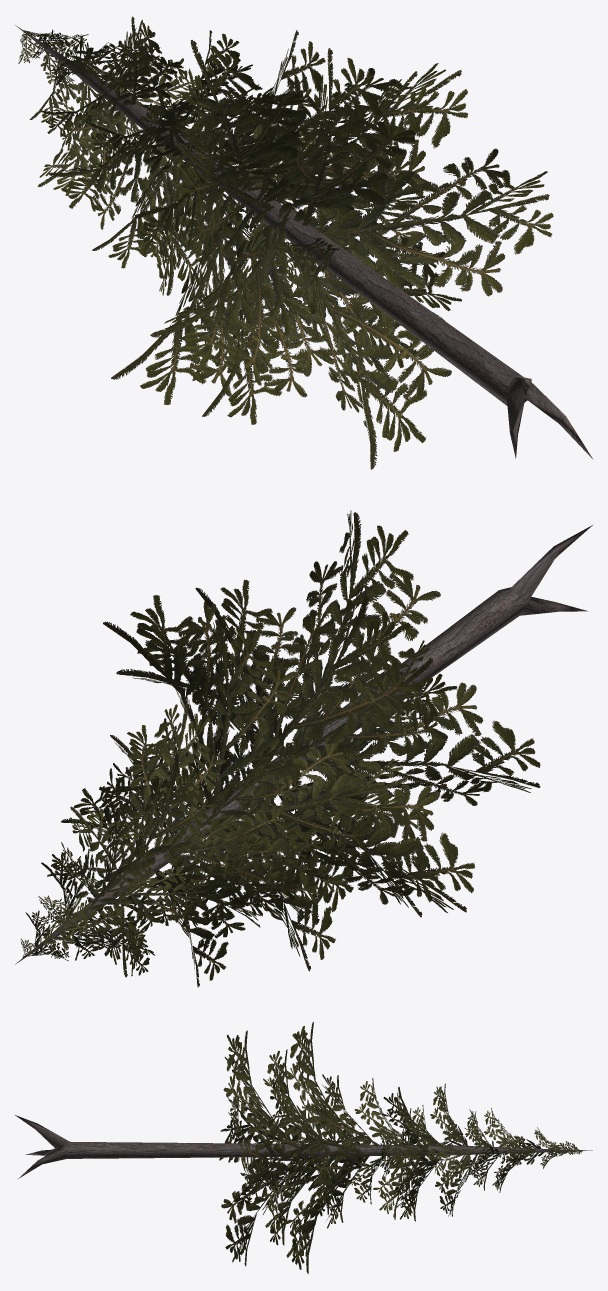
The model's file is Conif_04.fbx.
3 renders of one model, top to bottom at view 1: azimuth 30°, elevation 25°; view 2: azimuth 150°, elevation 25°; view 3: azimuth 270°, elevation 25°, orthographic. The views are drawn at different scales.
Parts seen in each view (by area): view 1: conifer_04; view 2: conifer_04; view 3: conifer_04.
Part boxes in pixels (bbox=[...]): conifer_04: bbox=[15, 16, 593, 469]; conifer_04: bbox=[15, 510, 592, 987]; conifer_04: bbox=[15, 1022, 592, 1273].
Size of the model in its own units: 7.41 by 7.35 by 16.79.
